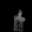person: (12, 10, 26, 31)
